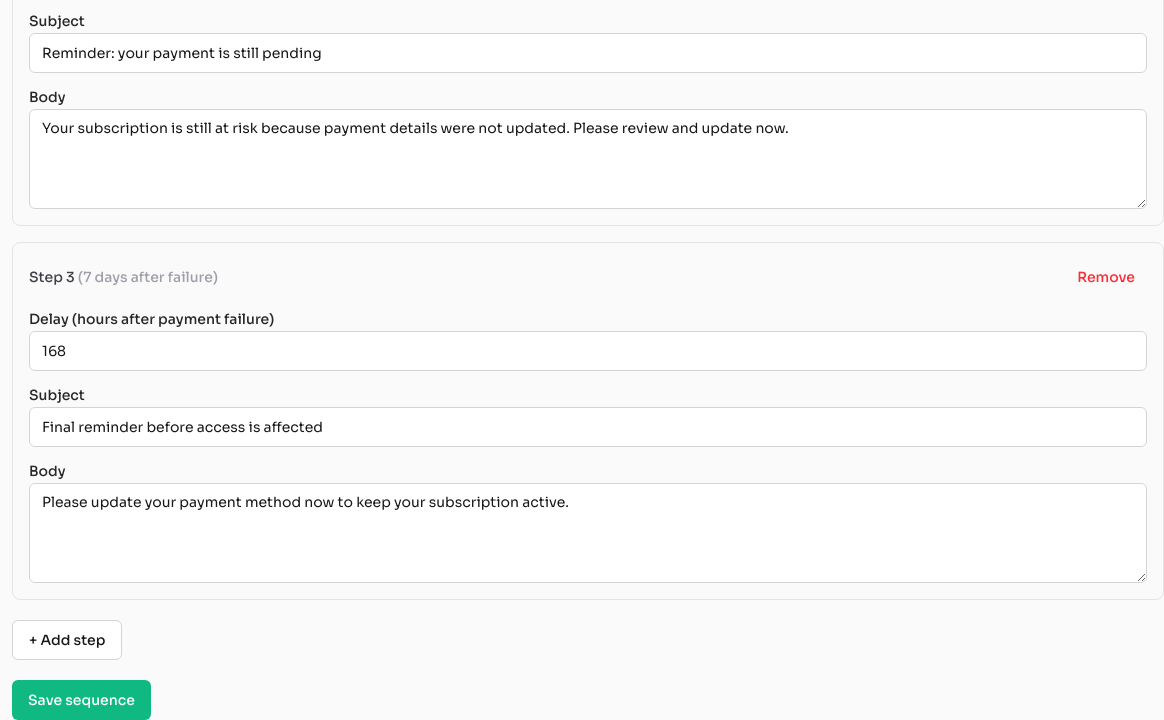
SequenceForm › shows success message after saving (POST for new)
(page scrolled)
Click the button "Save sequence": point(81, 700) left=12, top=680, right=151, bottom=719
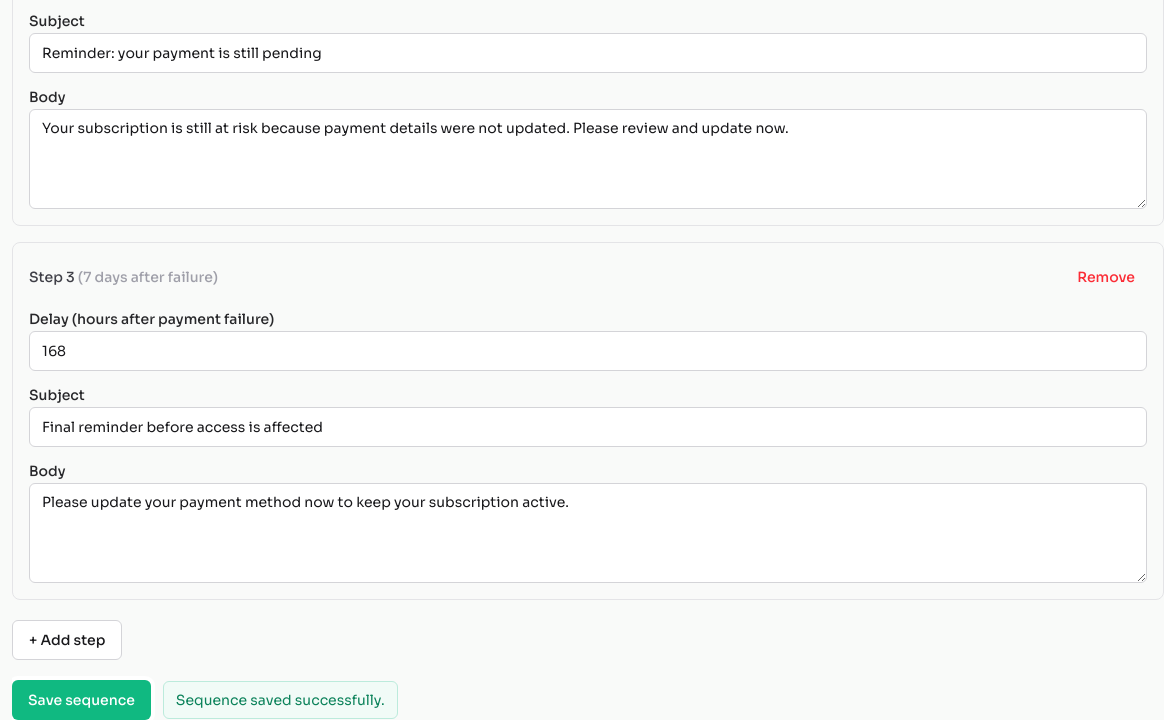
Result: the text "Sequence saved successfully." is shown at left=163, top=681, right=398, bottom=719
